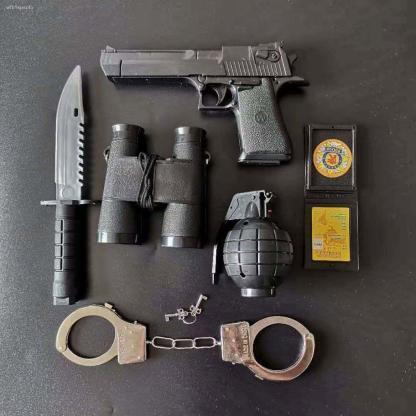Grenade: (208, 189, 298, 299)
Knife: (39, 63, 90, 308)
Pistol: (93, 41, 313, 168)
